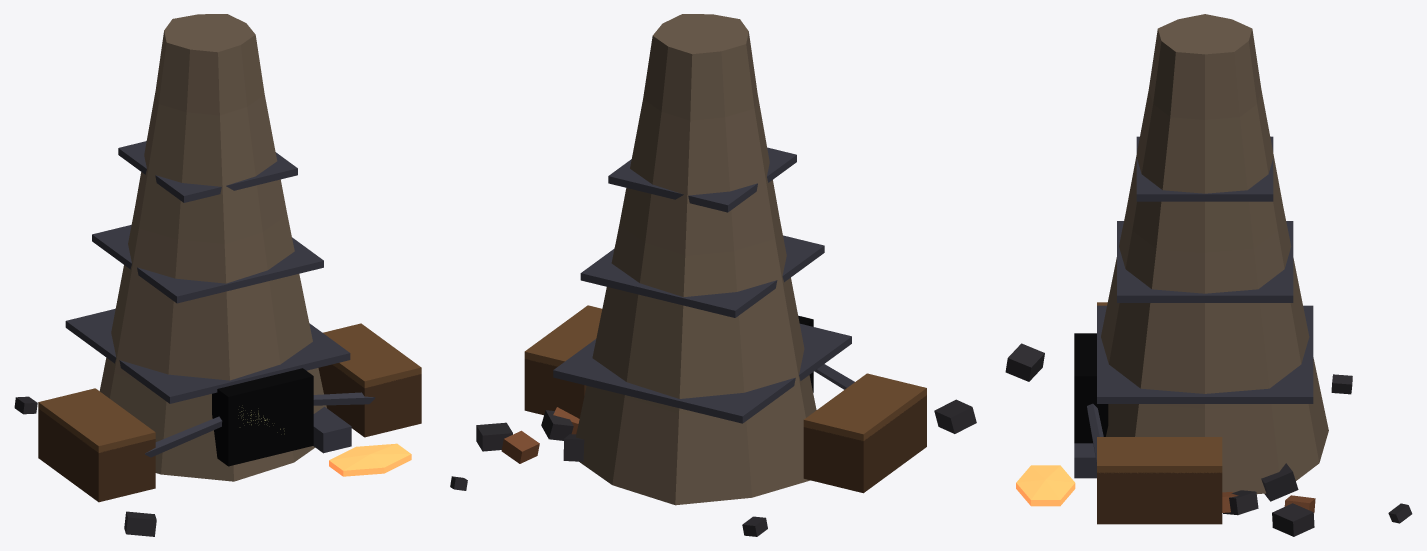
The model's file is soegol_smelter.glb.
The picture shows the model from 3 angles, left to right: view 1: azimuth 30°, elevation 25°; view 2: azimuth 150°, elevation 25°; view 3: azimuth 270°, elevation 25°; orthographic projection. The views are drawn at different scales.
Parts seen in each view (by area): view 1: soegol_smelter; view 2: soegol_smelter; view 3: soegol_smelter.
Boxes of the visible parts, box(x1,y1,x2,y2) form: soegol_smelter: box(14, 14, 421, 536); soegol_smelter: box(450, 14, 976, 536); soegol_smelter: box(1005, 14, 1412, 536).
Size of the model in its own units: 3.63 by 4.08 by 3.58.
